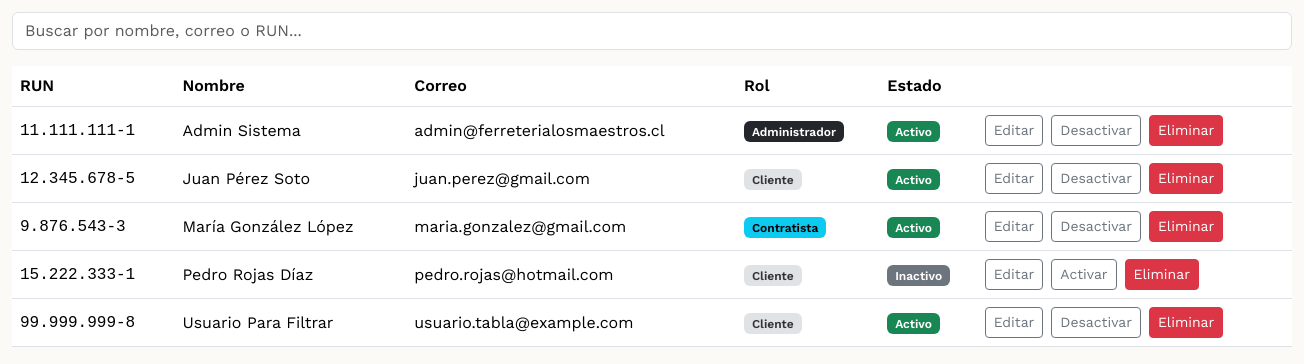
Test: <TablaUsuariosAdmin /> › actualiza el estado activo y elimina un usuario desde la tabla
Check: the text "Usuario Para Filtrar" is shown, box [12,298,1292,346]
Step 1. Click the button "Desactivar" in the row of "99.999.999-8" → coordinates (1096, 322), box [1051,307,1141,338]
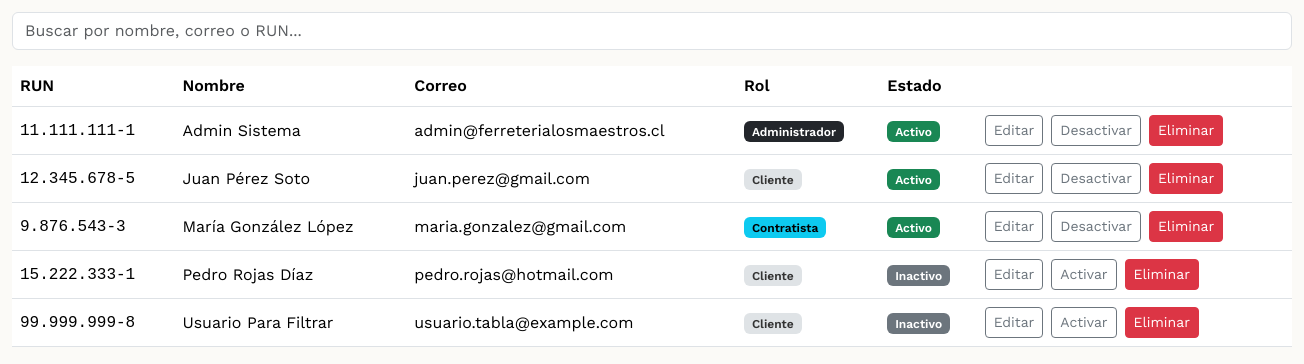
Check: the text "Inactivo" in the row of "99.999.999-8" is shown, box [895,316,942,330]
Step 2. Click the button "Eliminar" in the row of "99.999.999-8" → coordinates (1162, 322), box [1125,307,1199,338]
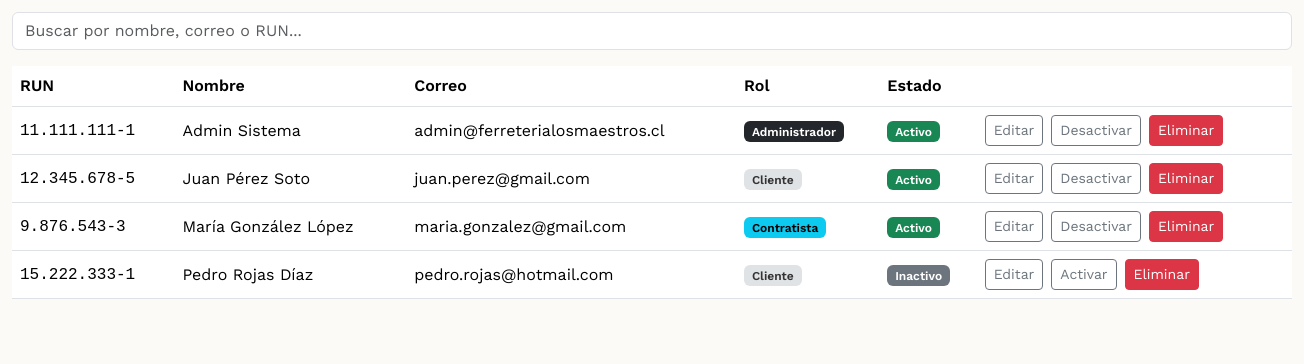
Check: the text "Usuario Para Filtrar" is gone
